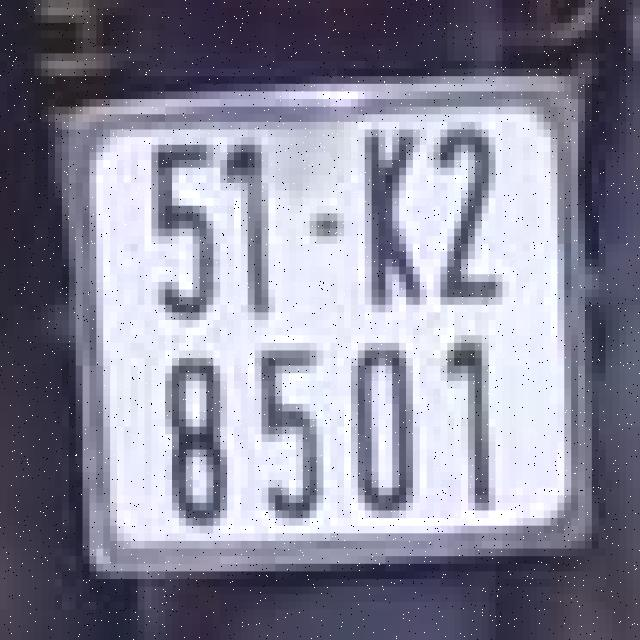0: (337, 324, 427, 529)
1: (434, 328, 509, 526), (213, 126, 282, 324)
2: (434, 107, 509, 312)
5: (244, 324, 334, 529), (141, 122, 224, 328)
8: (151, 332, 234, 537)
K: (341, 99, 423, 312)
